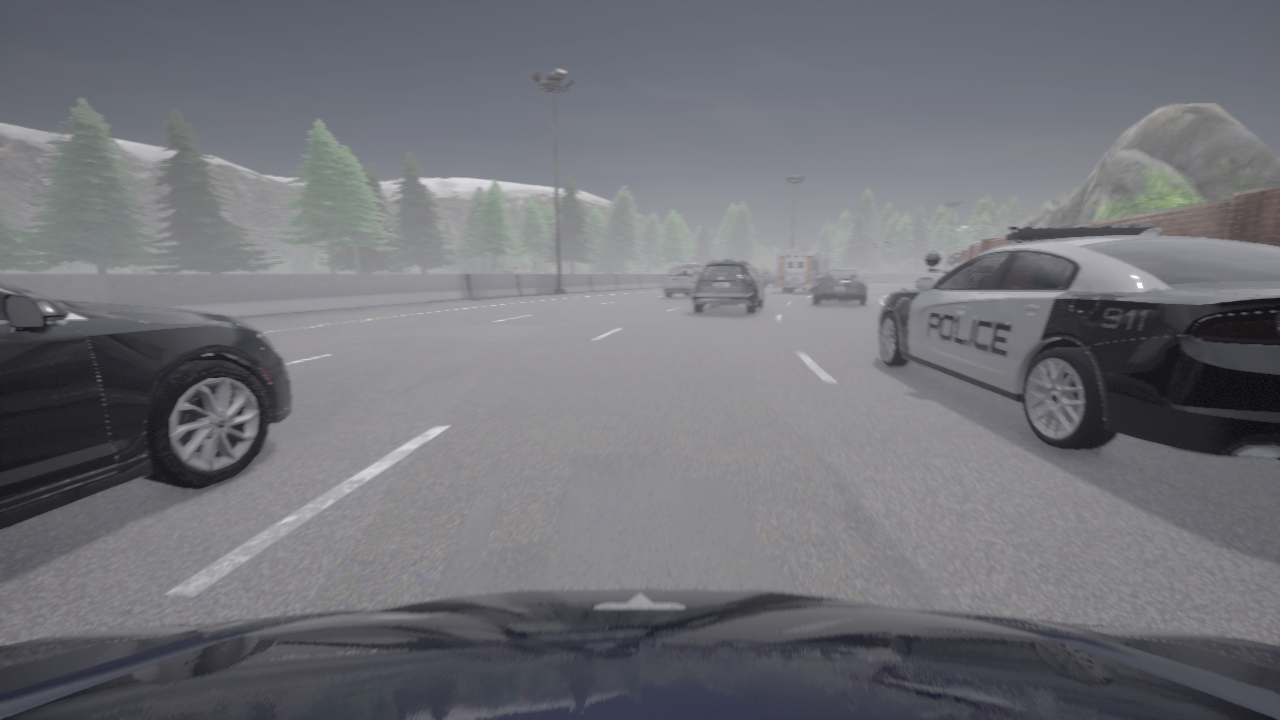cyclist: (0, 588, 1279, 719), (879, 224, 1279, 460), (692, 259, 763, 313), (775, 252, 835, 292), (813, 269, 868, 305), (664, 265, 703, 298), (754, 268, 776, 287)
